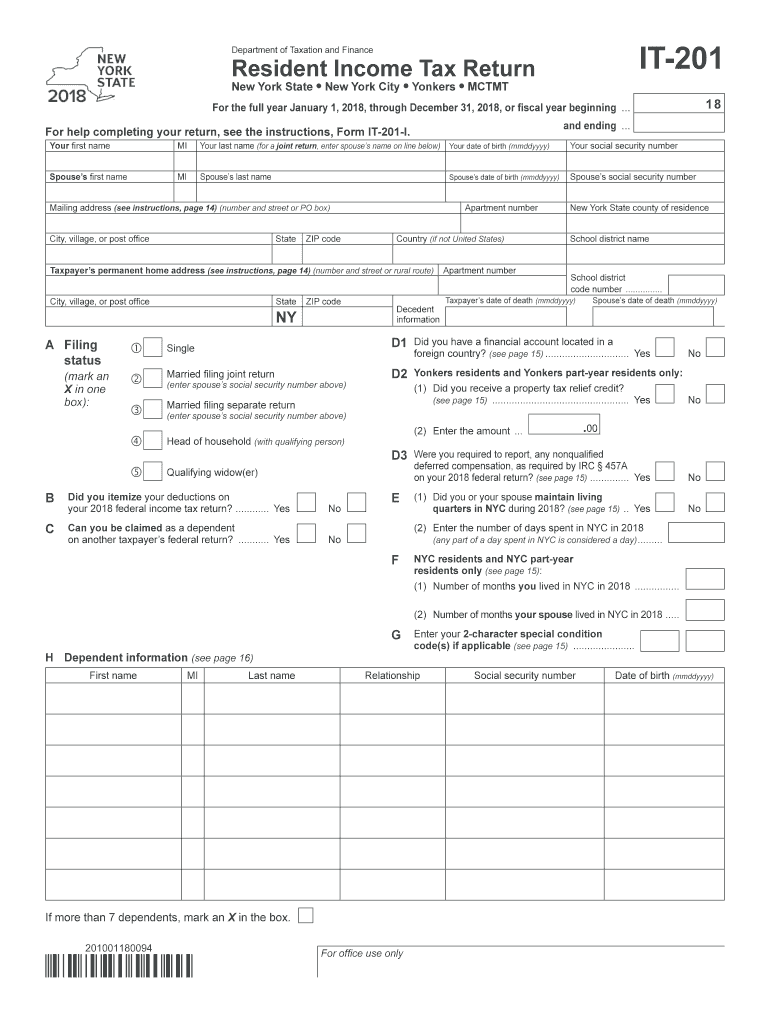checkbox: (702, 333, 728, 359), (651, 378, 677, 404), (702, 379, 728, 405), (703, 456, 729, 482), (651, 457, 677, 483), (652, 487, 678, 513), (702, 488, 728, 514), (141, 333, 165, 359), (140, 363, 164, 389), (140, 395, 164, 421), (140, 426, 164, 452), (140, 457, 164, 483), (294, 487, 318, 513), (344, 487, 368, 513), (344, 518, 368, 544), (294, 518, 318, 544), (652, 332, 676, 358), (294, 902, 318, 925)
textbox: (42, 210, 462, 235), (43, 271, 440, 297), (440, 676, 611, 719), (439, 707, 610, 750), (438, 736, 609, 779), (438, 770, 609, 813), (438, 800, 609, 843), (438, 832, 609, 875), (439, 862, 610, 905), (193, 147, 449, 173), (193, 177, 449, 203), (41, 240, 275, 267), (41, 677, 188, 718), (41, 708, 188, 749), (40, 739, 187, 780), (40, 769, 187, 810), (40, 801, 187, 842), (39, 833, 186, 874), (40, 864, 187, 905), (200, 677, 347, 718), (198, 707, 345, 748), (198, 740, 345, 781), (200, 770, 347, 811), (199, 800, 346, 841), (200, 831, 347, 872), (198, 861, 345, 902), (41, 302, 274, 326), (599, 677, 730, 718), (599, 707, 730, 748), (601, 738, 732, 779), (600, 770, 731, 811), (598, 802, 729, 843), (596, 834, 727, 875), (597, 864, 728, 905), (335, 677, 451, 718), (334, 708, 450, 749), (333, 739, 449, 780), (334, 769, 450, 810), (335, 803, 451, 844), (335, 833, 451, 874), (335, 864, 451, 905), (388, 240, 569, 266), (562, 146, 726, 174), (563, 177, 727, 205), (562, 240, 726, 267), (562, 210, 727, 236), (43, 147, 178, 173), (42, 178, 177, 204), (434, 271, 569, 297), (441, 147, 571, 173), (440, 178, 570, 204), (441, 304, 571, 330), (588, 303, 718, 329), (456, 209, 570, 235), (296, 239, 396, 265), (630, 90, 728, 116), (629, 108, 727, 134), (301, 303, 396, 329), (524, 408, 605, 437), (665, 270, 729, 298), (665, 518, 728, 545), (682, 565, 728, 593), (682, 595, 728, 623), (636, 626, 682, 654), (682, 626, 728, 654), (175, 677, 208, 716), (176, 706, 209, 745), (175, 742, 208, 781), (177, 770, 210, 809), (177, 801, 210, 840), (175, 833, 208, 872), (174, 864, 207, 903), (269, 240, 305, 267), (168, 147, 201, 174), (168, 178, 201, 205), (268, 304, 305, 328)
